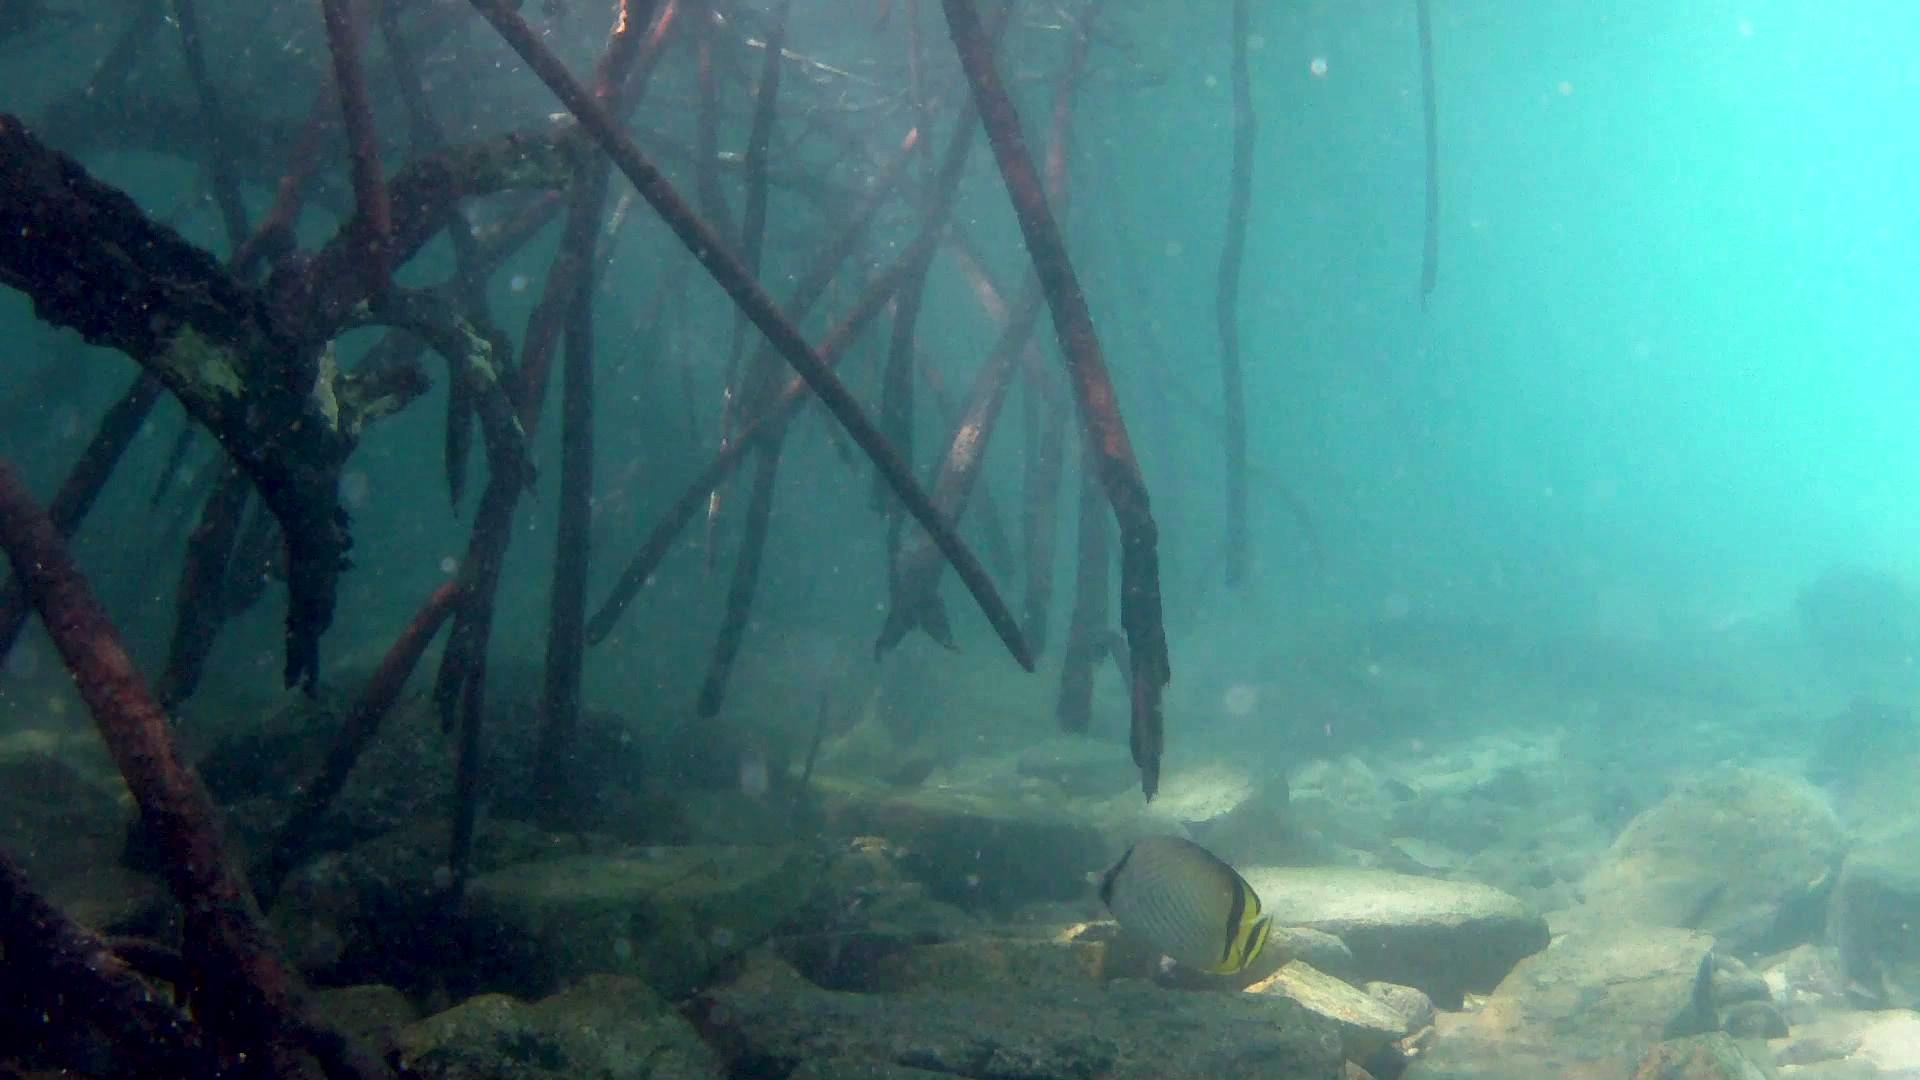chaetodon vagabundus: (1081, 832, 1277, 985)
